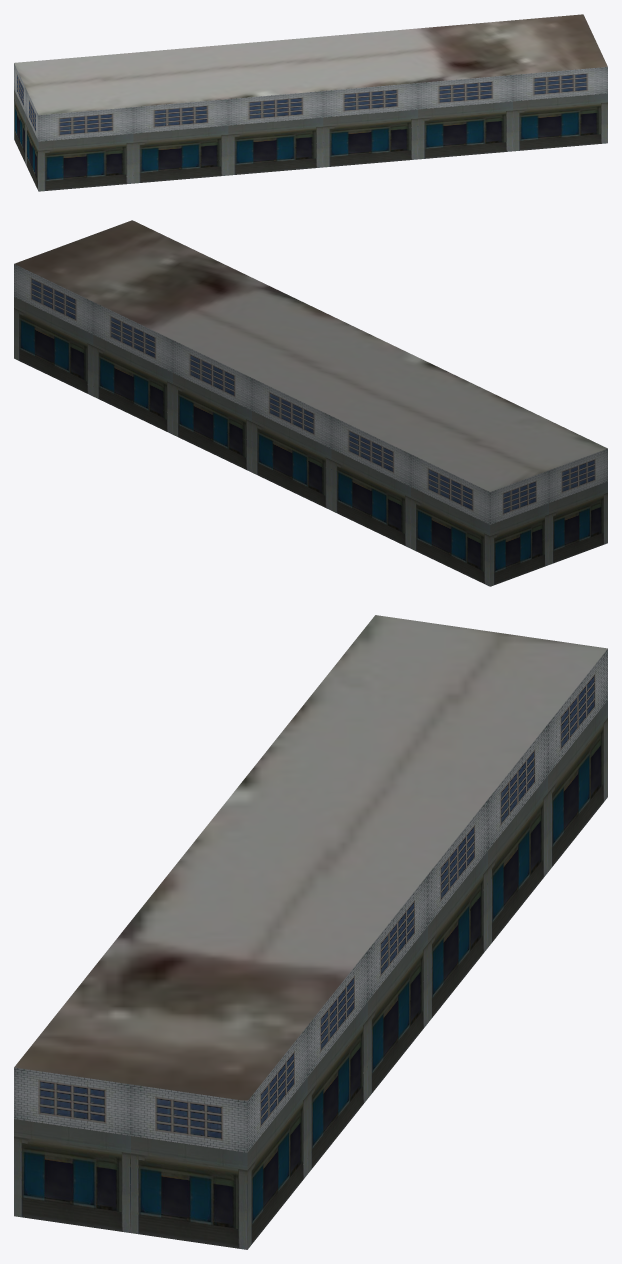
The model's file is T_1T8MF4PNJM.dae.
3 renders of one model, top to bottom at view 1: azimuth 30°, elevation 25°; view 2: azimuth 150°, elevation 25°; view 3: azimuth 270°, elevation 25°, orthographic. The views are drawn at different scales.
Parts seen in each view (by area): view 1: SketchUp (×5); view 2: SketchUp (×5); view 3: SketchUp (×5).
Boxes of the visible parts, bbox=[...] form: SketchUp (×5): bbox=[14, 14, 607, 191]; SketchUp (×5): bbox=[14, 220, 607, 586]; SketchUp (×5): bbox=[14, 615, 607, 1249].
Bounding box in the file's own units: 35.41 × 18.28 × 5.05.
3 materials, 3 textured.
